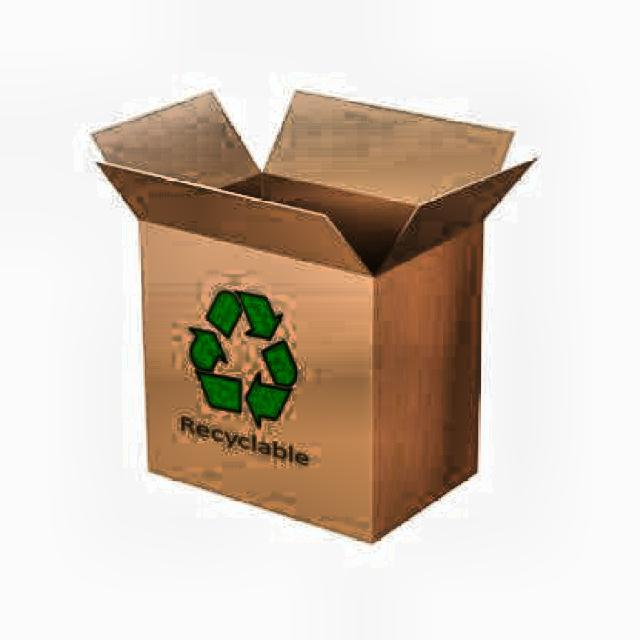Cardbox: (88, 94, 533, 535)
